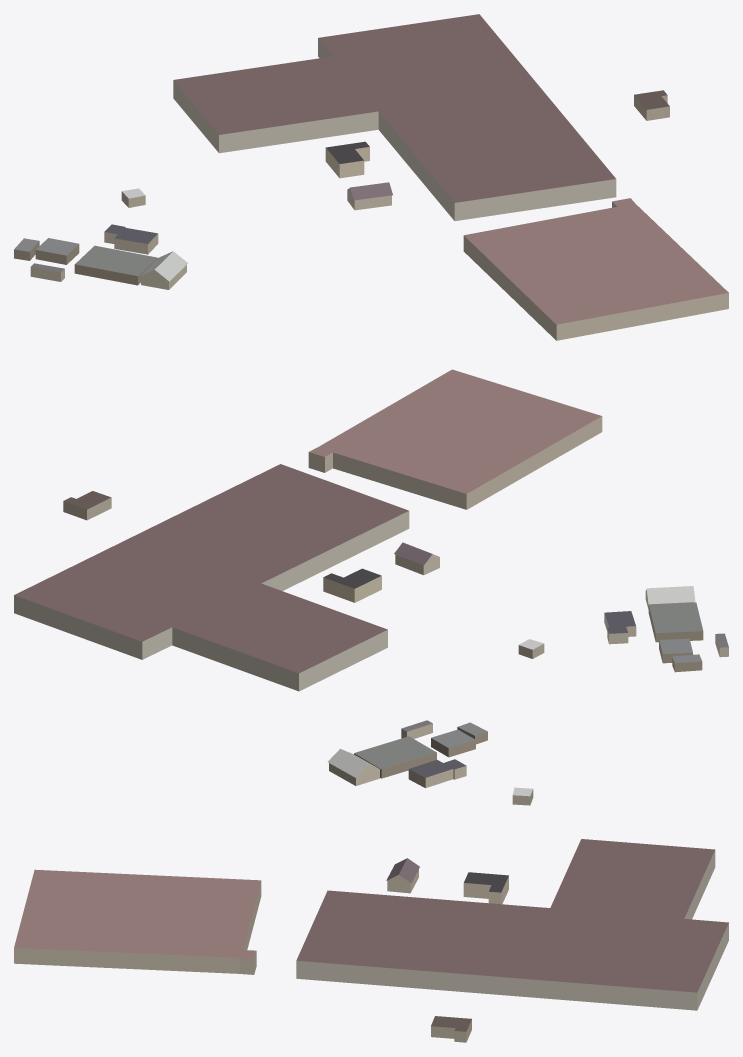
The picture shows the model from 3 angles, top to bottom: view 1: azimuth 30°, elevation 25°; view 2: azimuth 150°, elevation 25°; view 3: azimuth 270°, elevation 25°; orthographic projection.
Visible parts, largest first — view 1: tuile; view 2: tuile; view 3: tuile.
Boxes of the visible parts, bbox=[...] form: tuile: bbox=[14, 14, 728, 340]; tuile: bbox=[14, 369, 728, 691]; tuile: bbox=[14, 720, 728, 1042].
Bounding box in the file's own units: 249 × 7.67 × 240.
